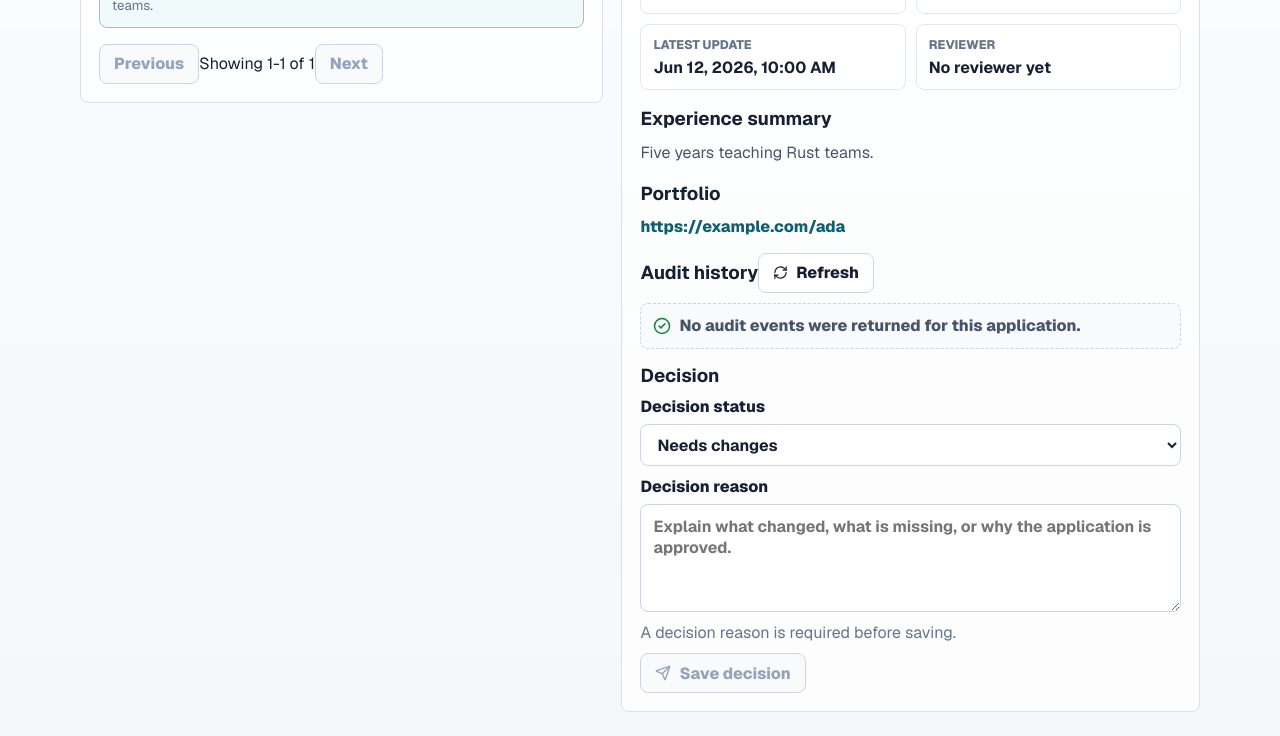
Scenario: AdminTeacherApplicationsRoute › approves the selected teacher application
(page scrolled)
Select "Approve" in the dropdown labelled "Decision status" at (911, 445), box [640,424,1181,466]
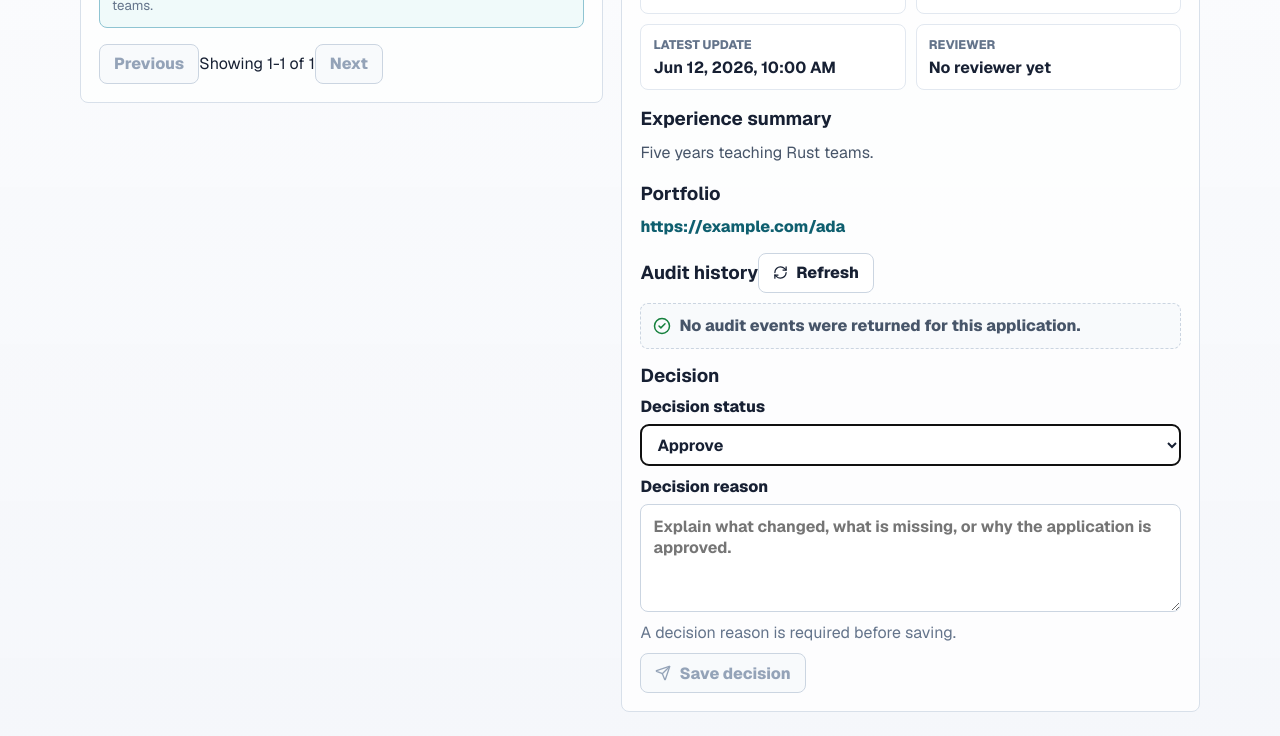
Type "Ready to teach" into the text box labelled "Decision reason" at (911, 558), box [640,504,1181,612]
(page scrolled)
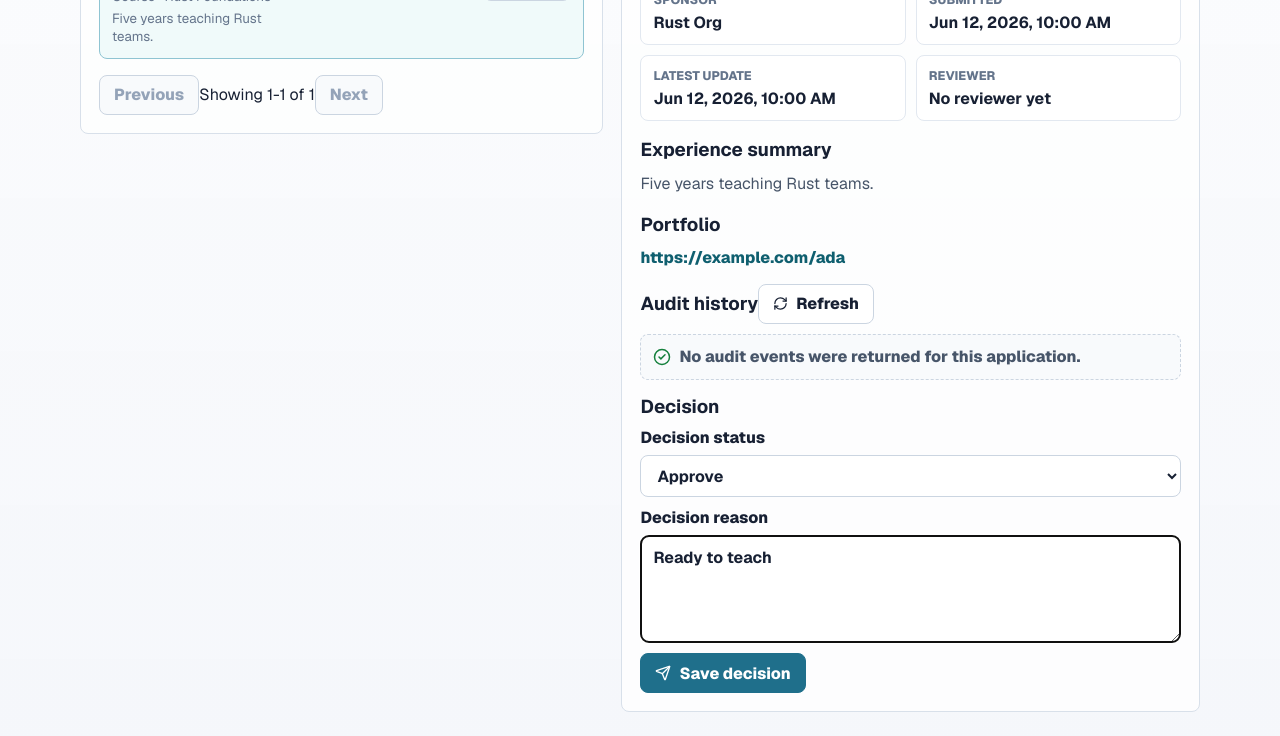
Click the button "Save decision" at (723, 673), box [640,653,806,693]
(page scrolled)
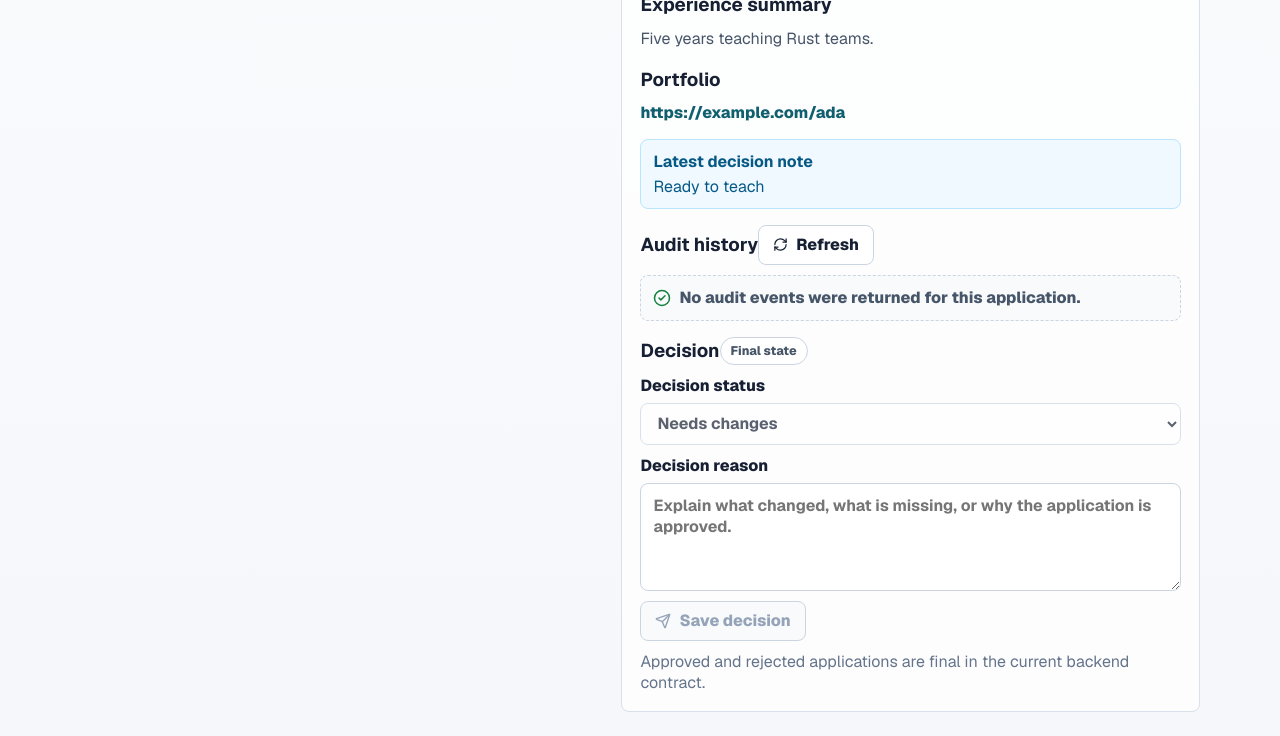
Now the text "Approved and rejected applications are final in the current backend contract." is shown, box [640,651,1181,693]
